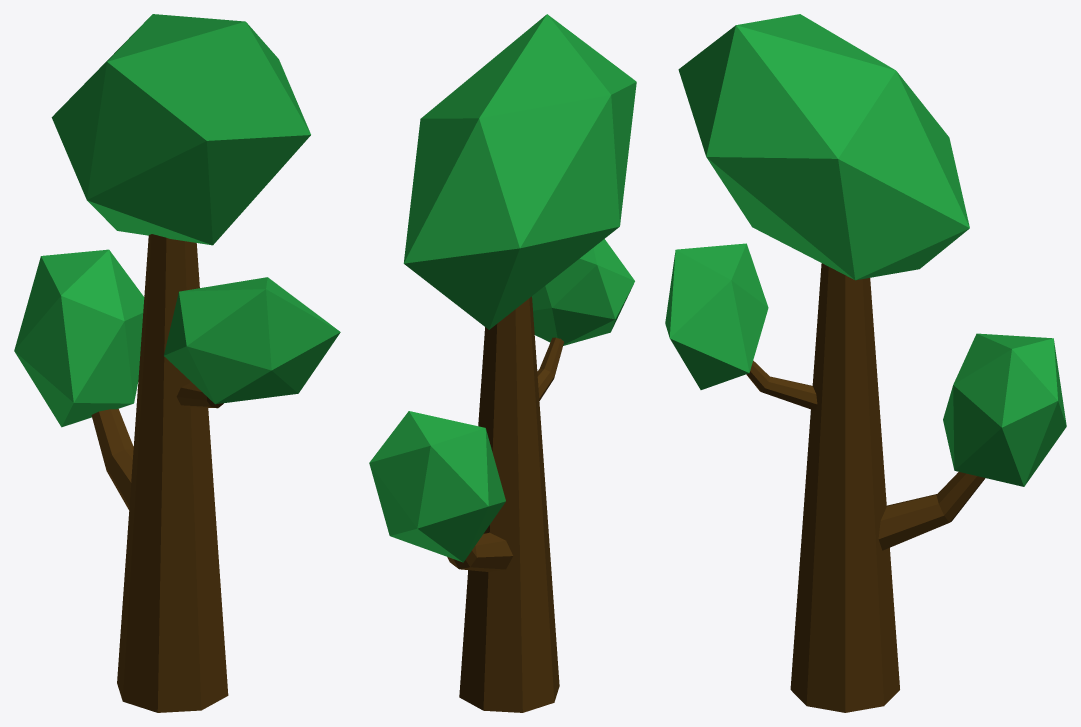
Rendered from tree007.fbx.
3 views of the same model, side by side, from view 1: azimuth 30°, elevation 25°; view 2: azimuth 150°, elevation 25°; view 3: azimuth 270°, elevation 25° (orthographic). The views are drawn at different scales.
Parts seen in each view (by area): view 1: Icosphere.009; view 2: Icosphere.009; view 3: Icosphere.009.
Boxes of the visible parts, box(x1,y1,x2,y2) form: Icosphere.009: box(14, 14, 340, 712); Icosphere.009: box(369, 14, 636, 712); Icosphere.009: box(665, 14, 1066, 712).
Bounding box in the file's own units: 414 × 1352 × 732.
